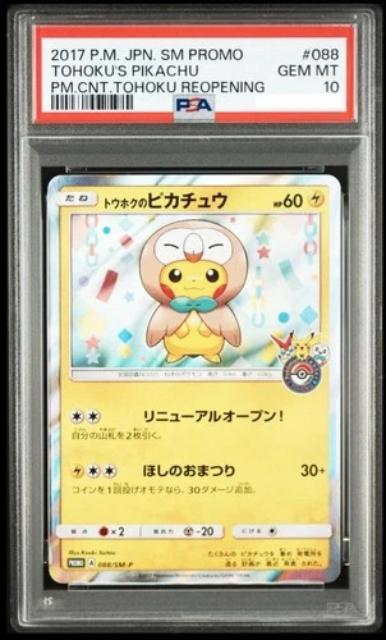Card: (43, 169, 347, 590)
Name: (101, 188, 232, 212)
